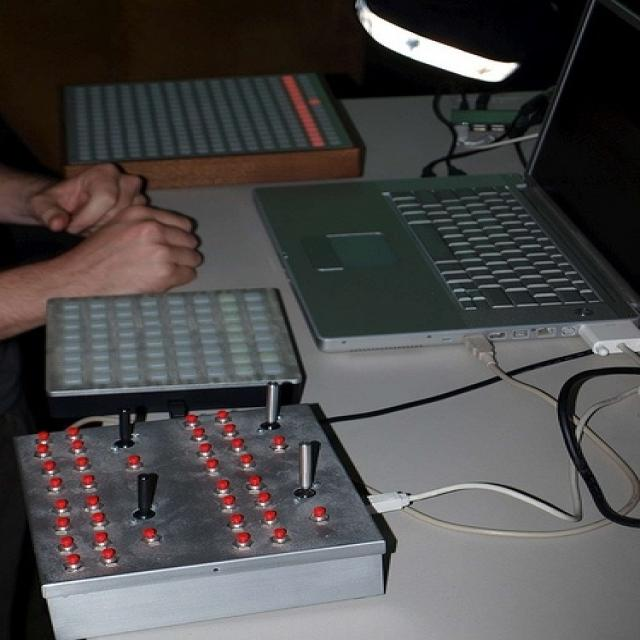E-waste: (8, 276, 424, 635)
